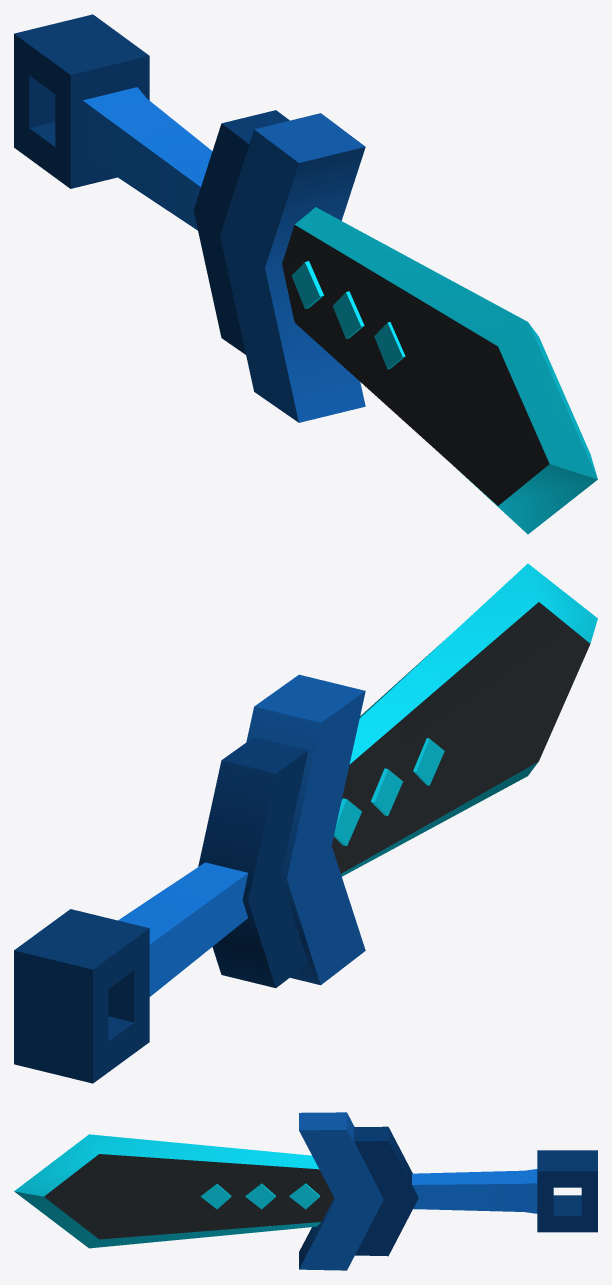
The model's file is Sword 02.FBX.
3 renders of one model, top to bottom at view 1: azimuth 30°, elevation 25°; view 2: azimuth 150°, elevation 25°; view 3: azimuth 270°, elevation 25°, orthographic. The views are drawn at different scales.
Parts seen in each view (by area): view 1: Sword 02; view 2: Sword 02; view 3: Sword 02.
Boxes of the visible parts, x1,y1,x2,y2 form: Sword 02: [14, 14, 597, 534]; Sword 02: [14, 563, 597, 1083]; Sword 02: [14, 1112, 597, 1270].
Size of the model in its own units: 7.9 by 25.05 by 94.21.
1 material, 1 textured.
